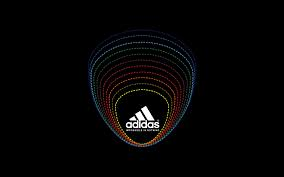adidas: (125, 105, 160, 129)
